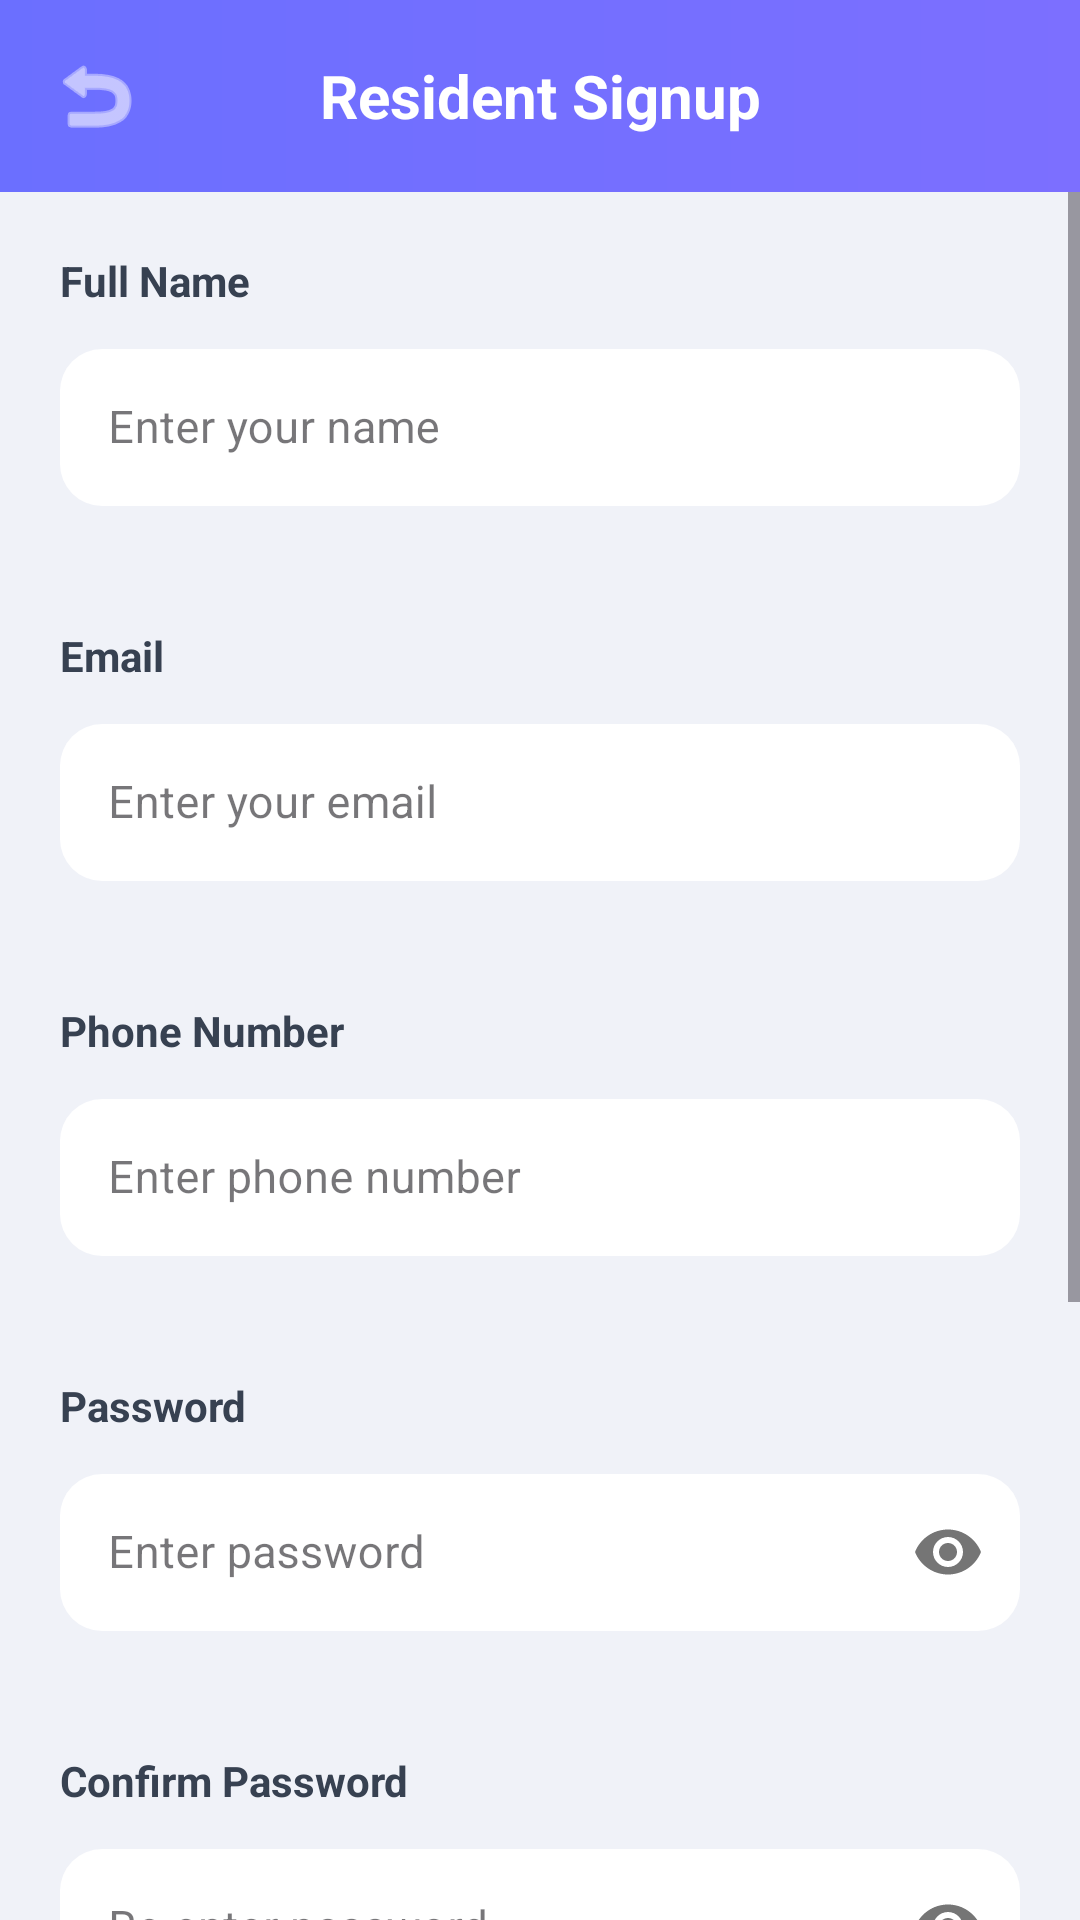

Where icons sit on this 1080px×1920px app screen, as (left=x1, top=y1, right=x2, bottom=y2):
Go back: (left=63, top=66, right=132, bottom=128)
